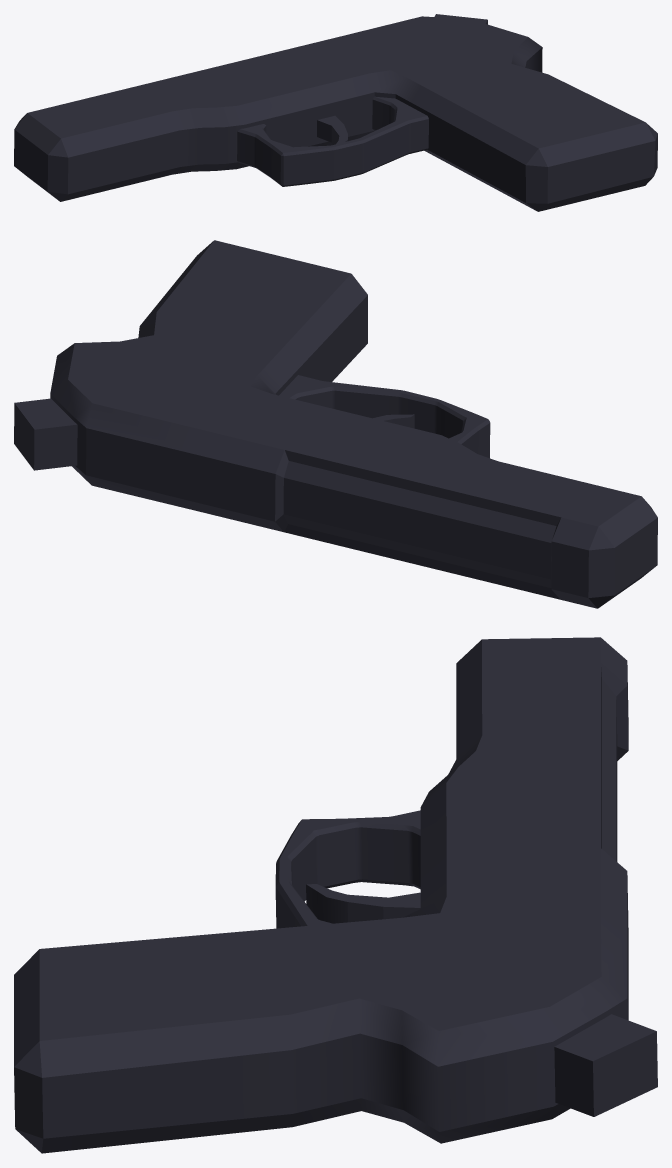
File: Gun.fbx
3 views of the same model, one above another, from view 1: azimuth 30°, elevation 25°; view 2: azimuth 150°, elevation 25°; view 3: azimuth 270°, elevation 25° (orthographic). The views are drawn at different scales.
Parts seen in each view (by area): view 1: pCube151; view 2: pCube151; view 3: pCube151.
Boxes of the visible parts, x1=… form: pCube151: x1=14, y1=14, x2=657, y2=211; pCube151: x1=14, y1=240, x2=657, y2=608; pCube151: x1=14, y1=637, x2=657, y2=1153.
Size of the model in its own units: 0.2666 by 0.0362 by 0.174.
